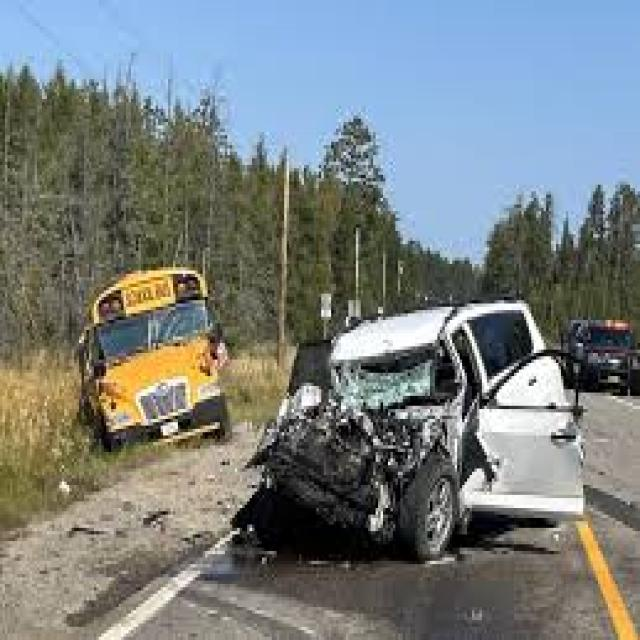Accident: (227, 291, 590, 572), (58, 258, 230, 460)
